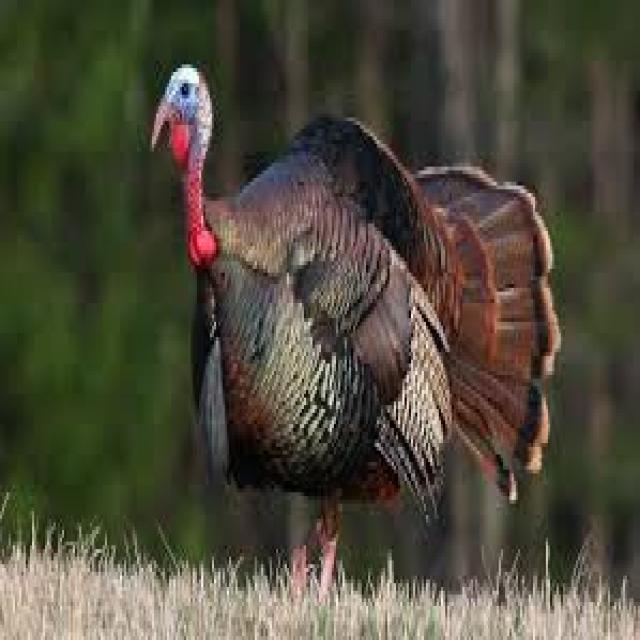Turkey: (138, 50, 560, 578)
